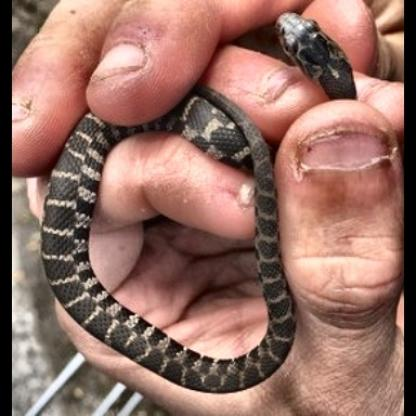Snake: (40, 95, 298, 399)
